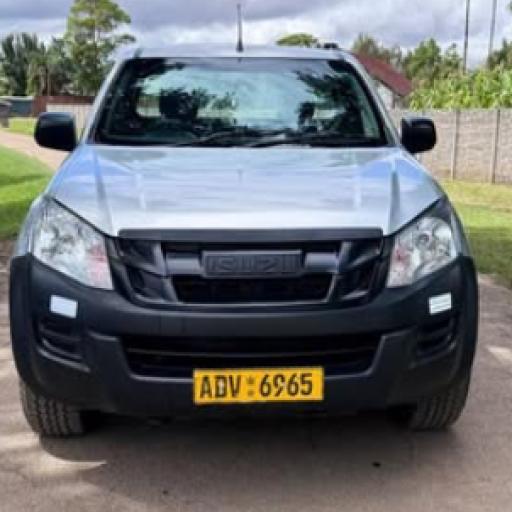number-plates: (196, 368, 318, 403)
